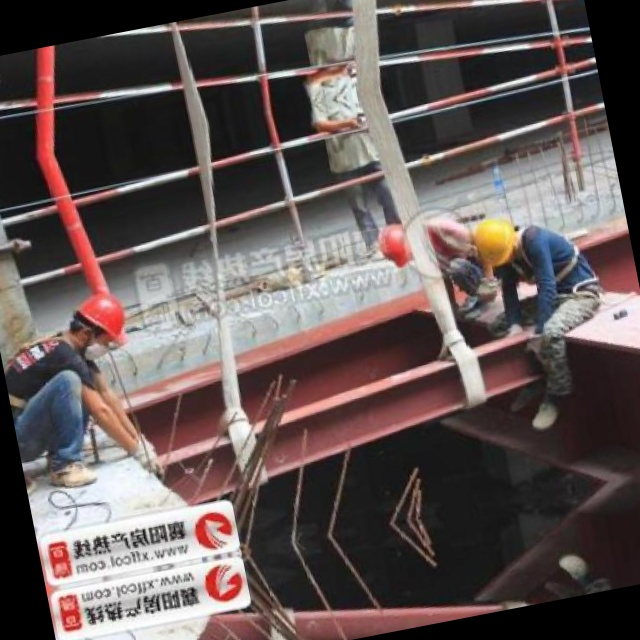helmet: (501, 242, 574, 312), (103, 245, 159, 304), (212, 241, 250, 285)
person: (488, 250, 637, 441), (36, 250, 166, 467), (137, 238, 251, 348), (212, 106, 288, 270), (210, 0, 288, 105)
